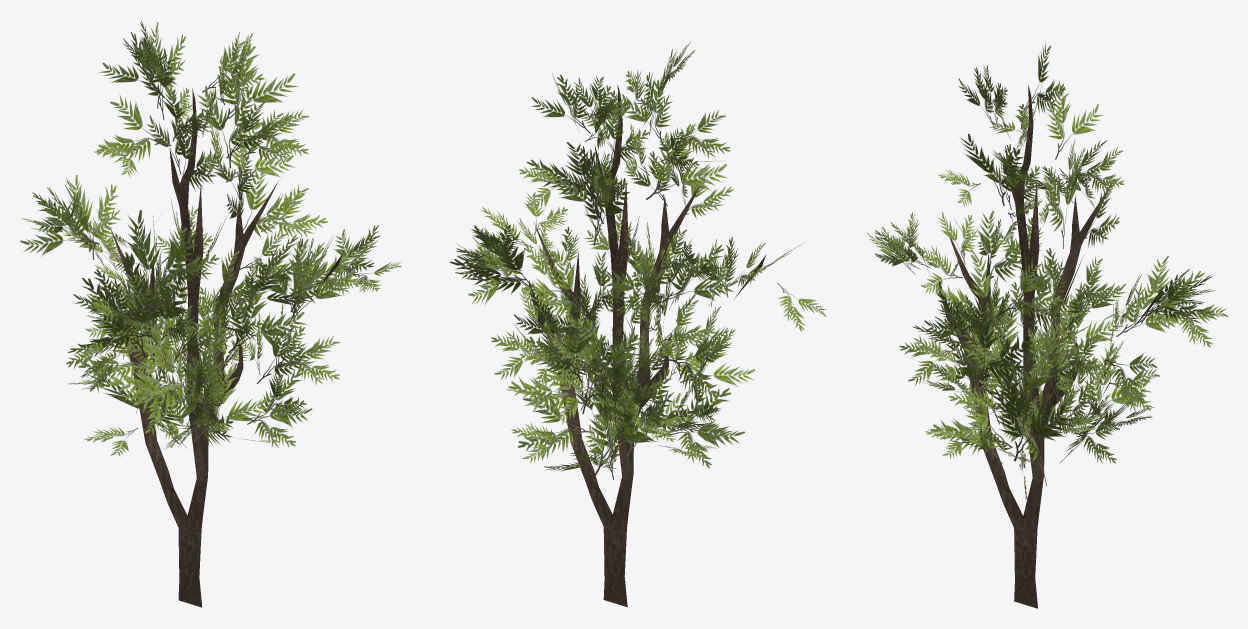
The model's file is tree-2-lite.glb.
3 views of the same model, side by side, from view 1: azimuth 30°, elevation 25°; view 2: azimuth 150°, elevation 25°; view 3: azimuth 270°, elevation 25° (orthographic). The views are drawn at different scales.
Visible parts, largest first — view 1: leaves, bark; view 2: leaves, bark; view 3: leaves, bark.
Part boxes in pixels (<box>): leaves: <box>20,21,401,456</box>; bark: <box>104,88,342,607</box>; leaves: <box>450,42,826,486</box>; bark: <box>529,84,766,607</box>; leaves: <box>867,43,1228,506</box>; bark: <box>939,85,1163,608</box>.
Bounding box in the file's own units: 0.5938 × 1.01 × 0.6008.
Materials: 2 (2 with a texture image).
